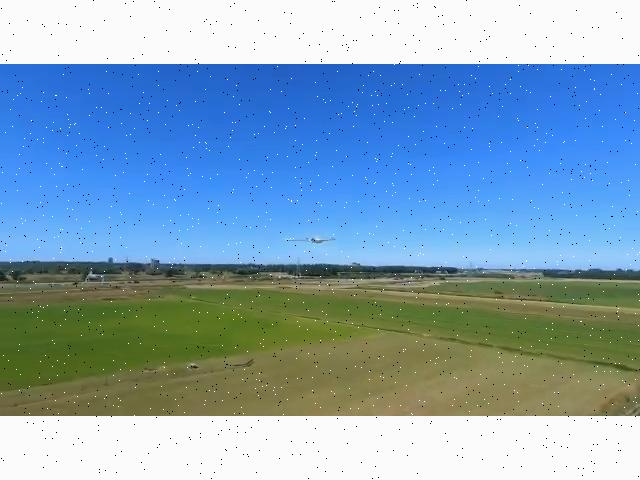Anti-Drone: (278, 224, 348, 260)
